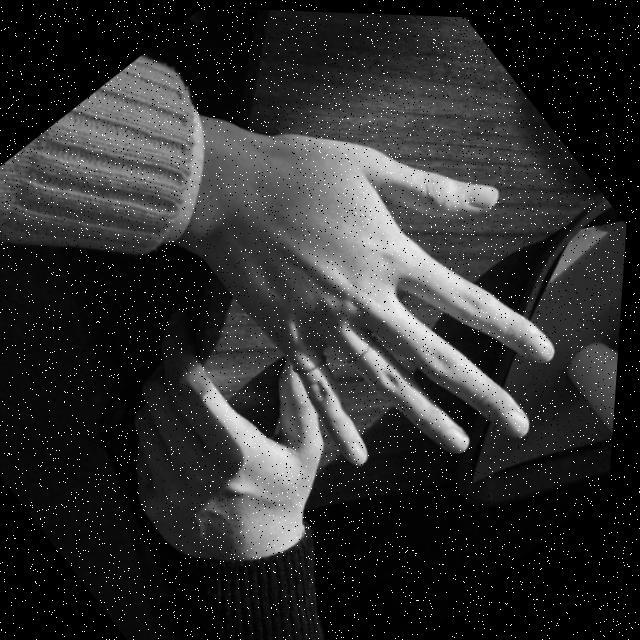no-gloves: (172, 68, 636, 542)
